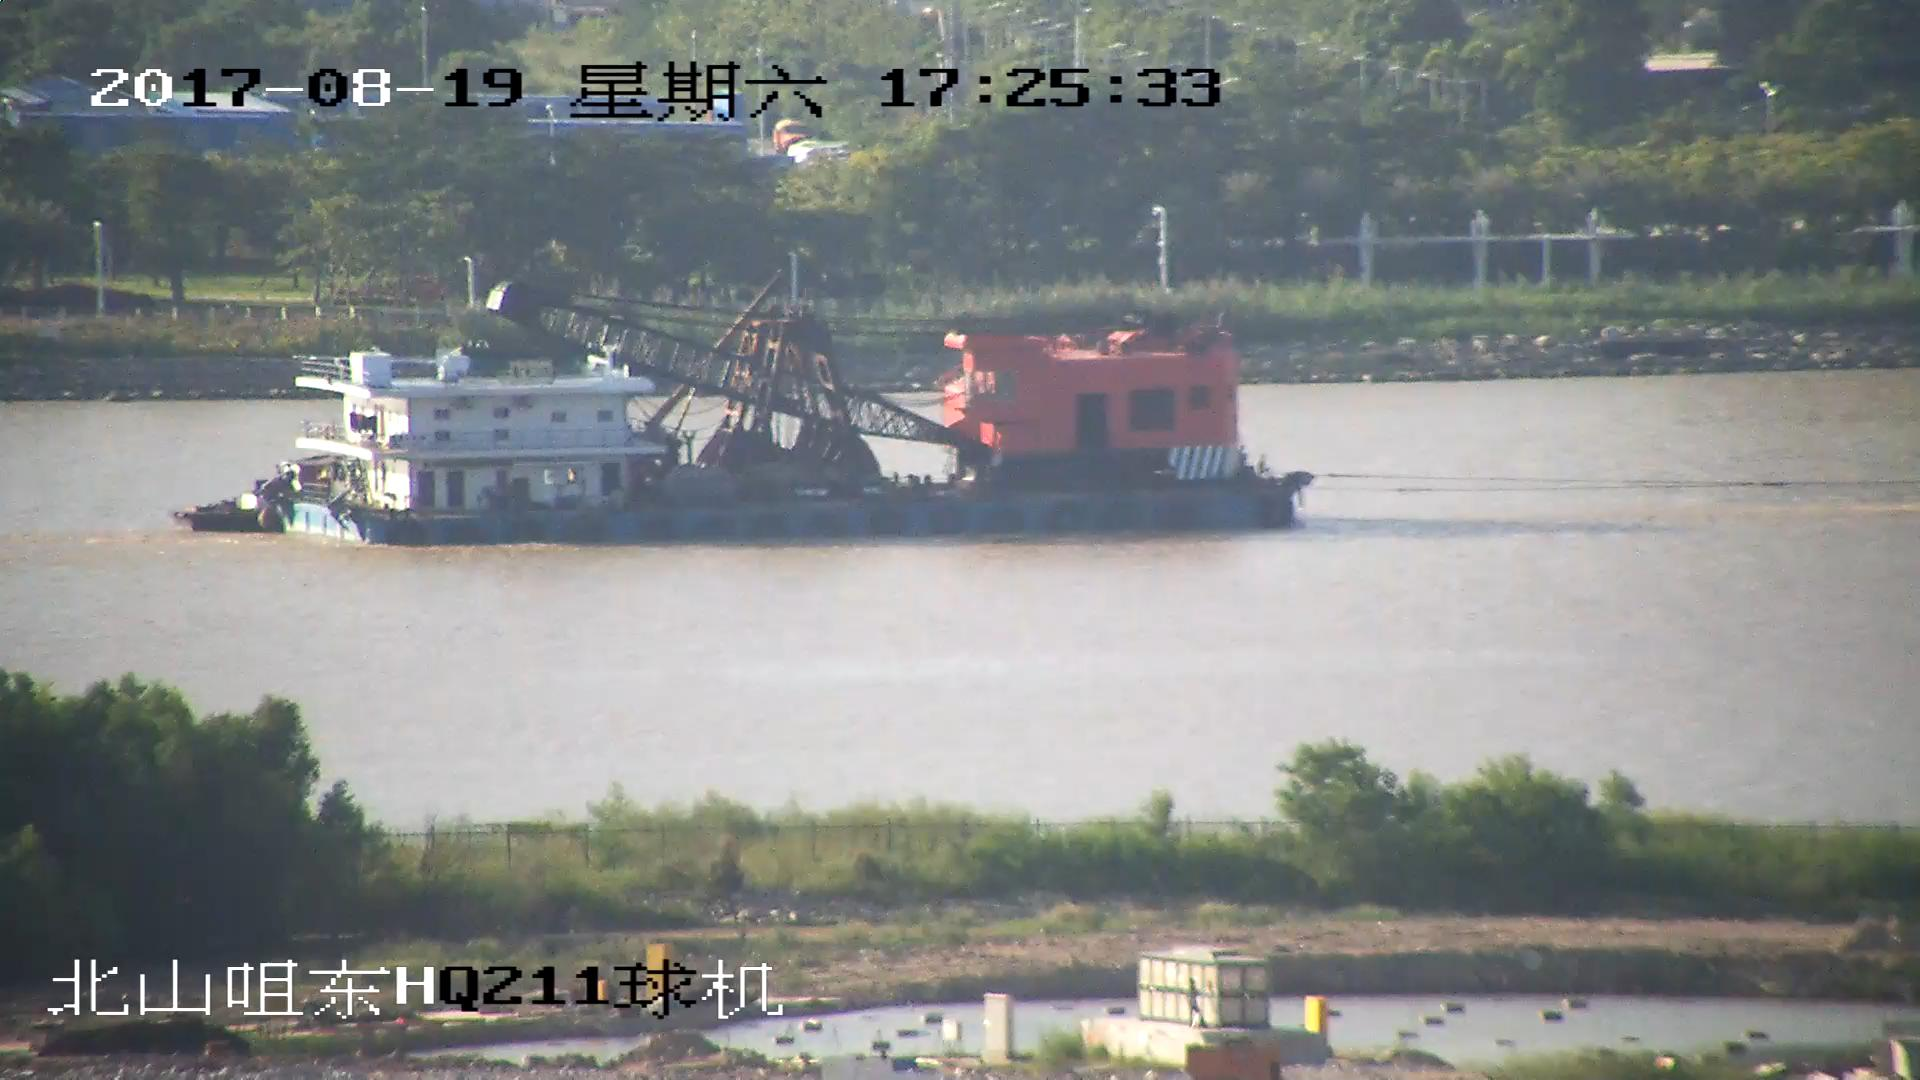fishing boat: (181, 275, 1316, 551)
